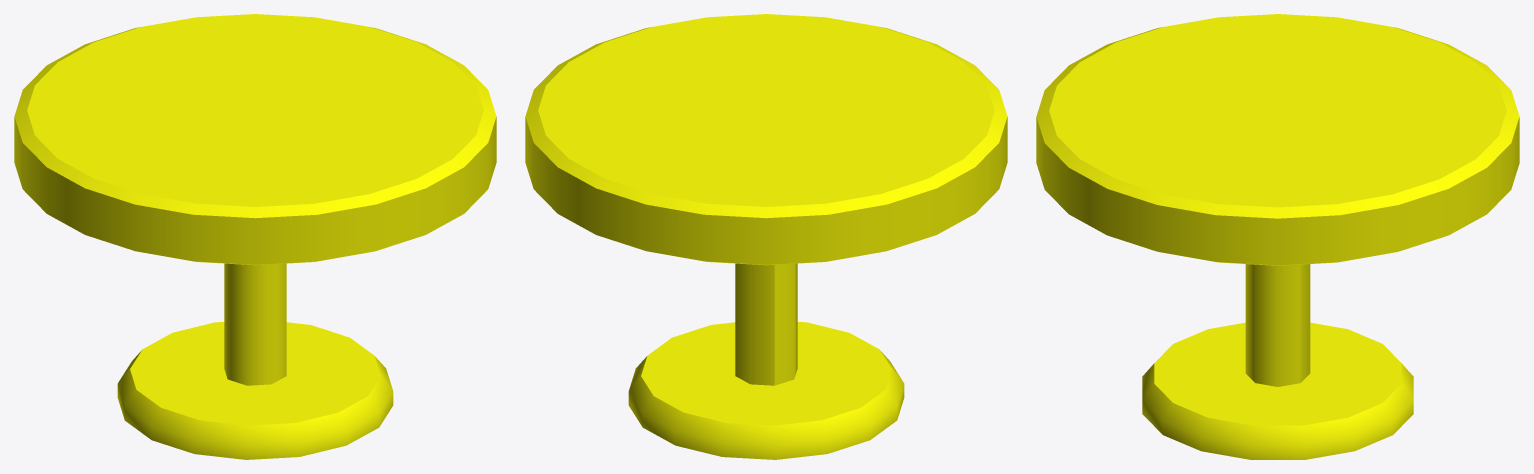
Rendered from kaykit-table-round-a-small.glb.
3 views of the same model, side by side, from view 1: azimuth 30°, elevation 25°; view 2: azimuth 150°, elevation 25°; view 3: azimuth 270°, elevation 25° (orthographic).
Parts seen in each view (by area): view 1: table_round_A_small; view 2: table_round_A_small; view 3: table_round_A_small.
Boxes of the visible parts, x1,y1,x2,y2 form: table_round_A_small: [14, 14, 496, 459]; table_round_A_small: [525, 14, 1007, 459]; table_round_A_small: [1036, 14, 1519, 459].
Size of the model in its own units: 1.5 by 1 by 1.5.
